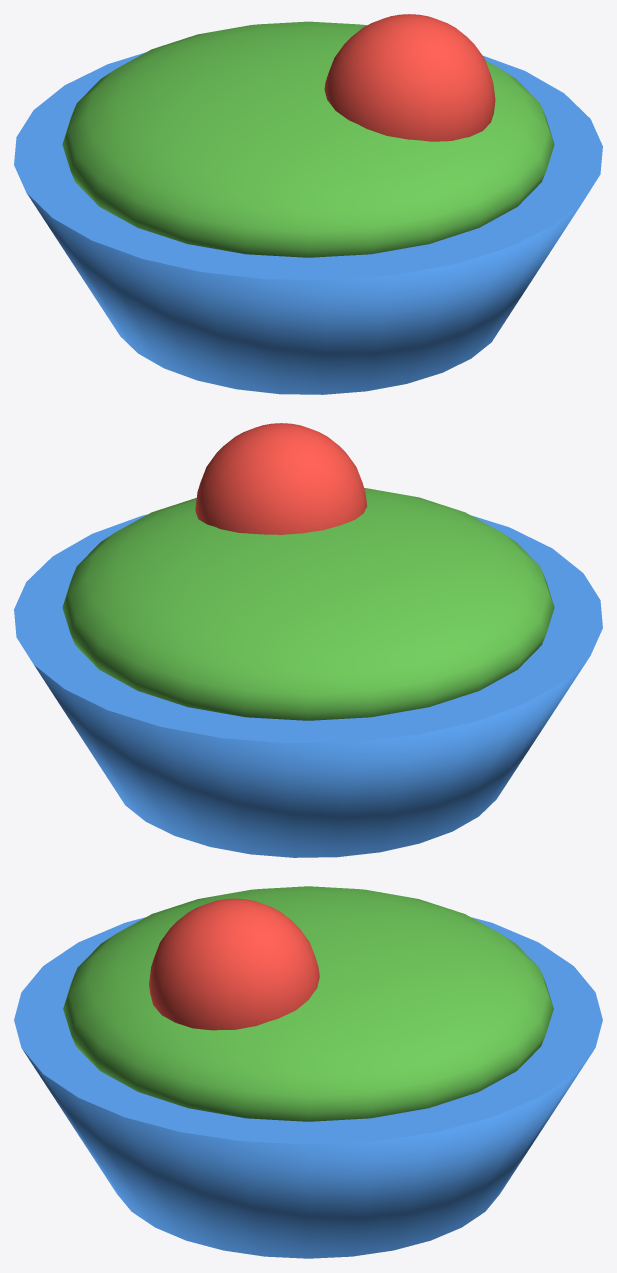
File: icon_feed.glb
The picture shows the model from 3 angles, top to bottom: view 1: azimuth 30°, elevation 25°; view 2: azimuth 150°, elevation 25°; view 3: azimuth 270°, elevation 25°; orthographic projection.
Parts seen in each view (by area): view 1: icon_feed; view 2: icon_feed; view 3: icon_feed.
Part boxes in pixels (box(x1,y1,x2,y2)): icon_feed: box(14, 14, 602, 394); icon_feed: box(14, 423, 602, 857); icon_feed: box(14, 886, 602, 1258).
Size of the model in its own units: 0.48 by 0.27 by 0.48.
